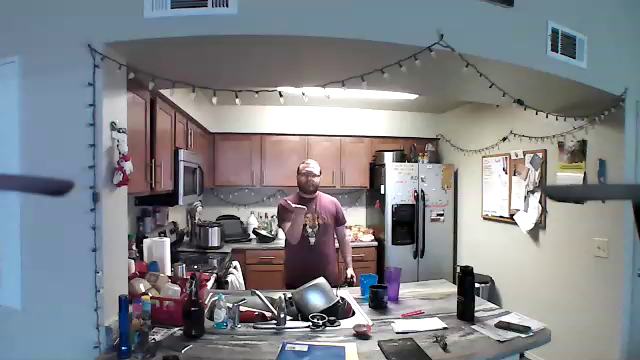land: (281, 197, 312, 216)
